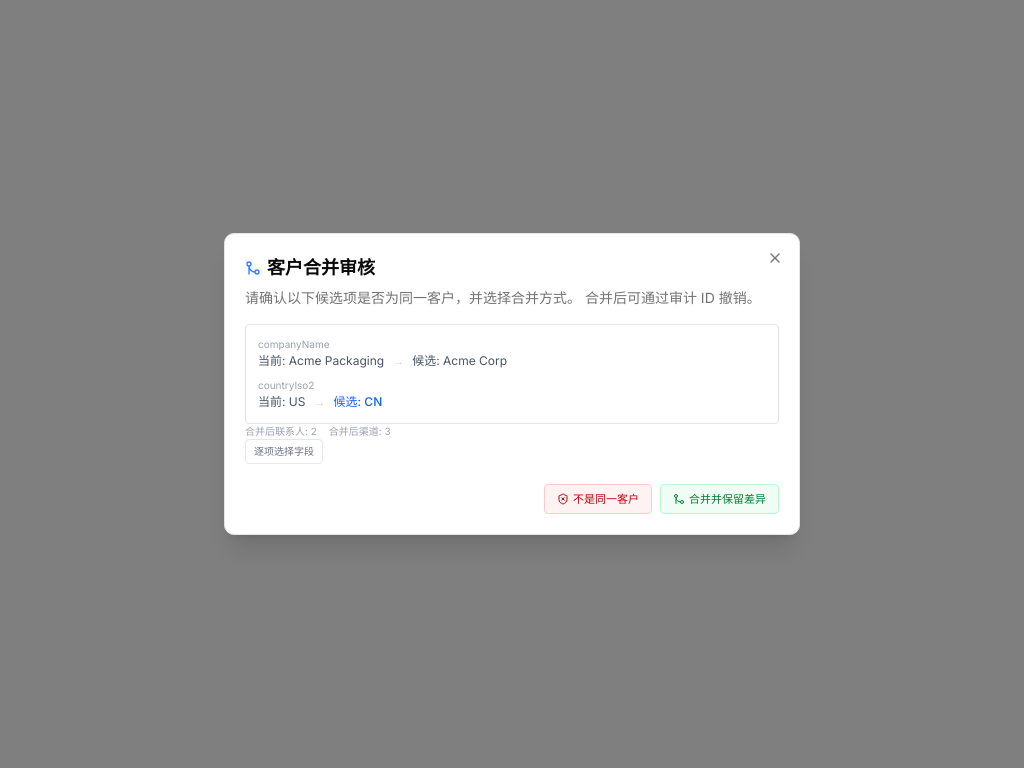
Scenario: MergeDiffDialog › 逐项选择模式 — 未勾选任何字段时"合并所选"按钮禁用
The image size is (1024, 768).
# 进入逐项选择模式
Click the button with test id "toggle-choice-mode" at (284, 451), box [245,439,323,464]
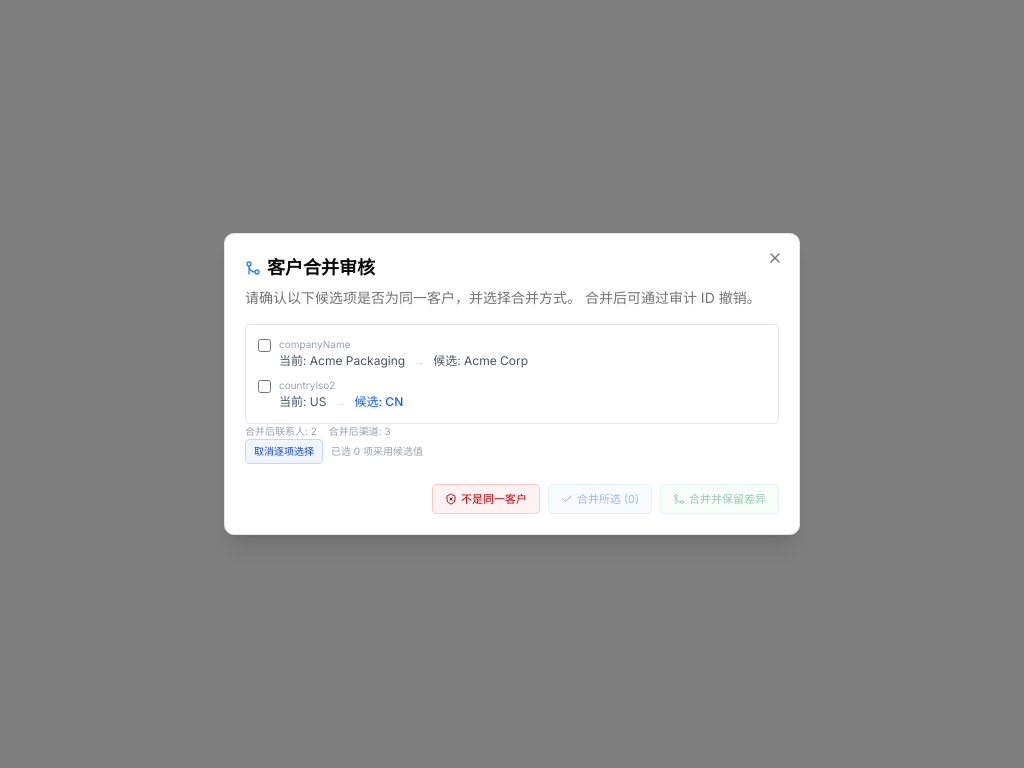
Expected: the button with test id "merge-action-choices" is disabled, [548,484,652,514]
